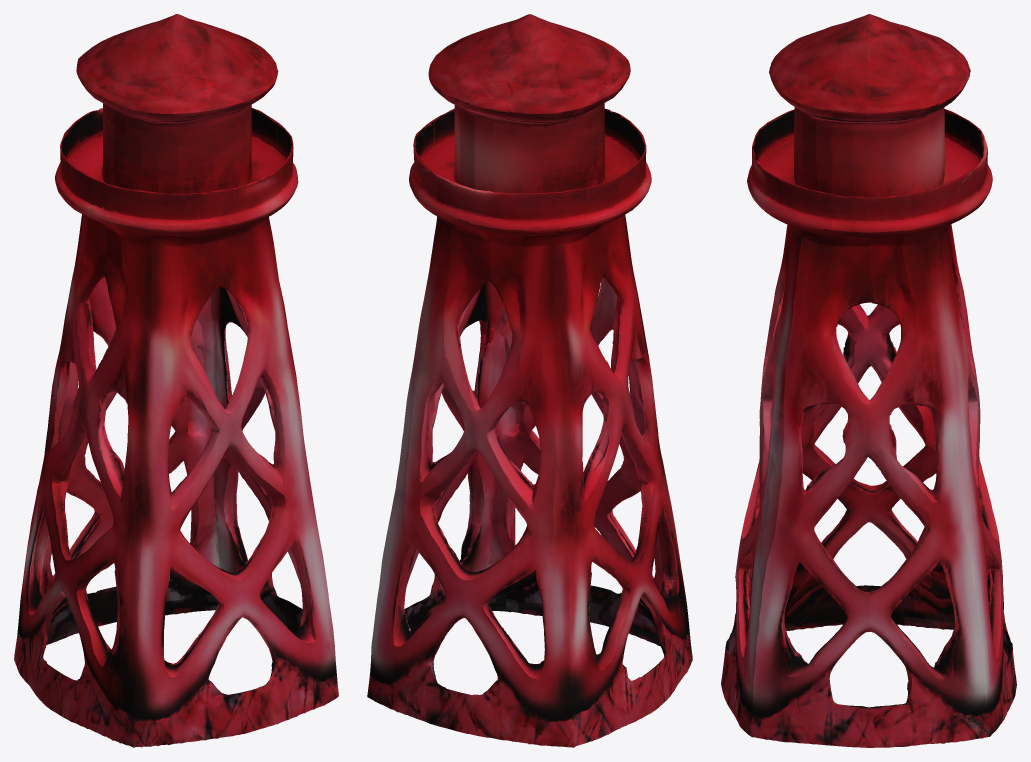
File: water-tower.glb
3 views of the same model, side by side, from view 1: azimuth 30°, elevation 25°; view 2: azimuth 150°, elevation 25°; view 3: azimuth 270°, elevation 25° (orthographic).
Visible parts, largest first — view 1: geometry_0; view 2: geometry_0; view 3: geometry_0.
Boxes of the visible parts, <box> form: geometry_0: <box>14,14,338,747</box>; geometry_0: <box>367,14,692,747</box>; geometry_0: <box>721,14,1016,747</box>.
Bounding box in the file's own units: 0.4007 × 1 × 0.399.
1 material, 1 textured.
